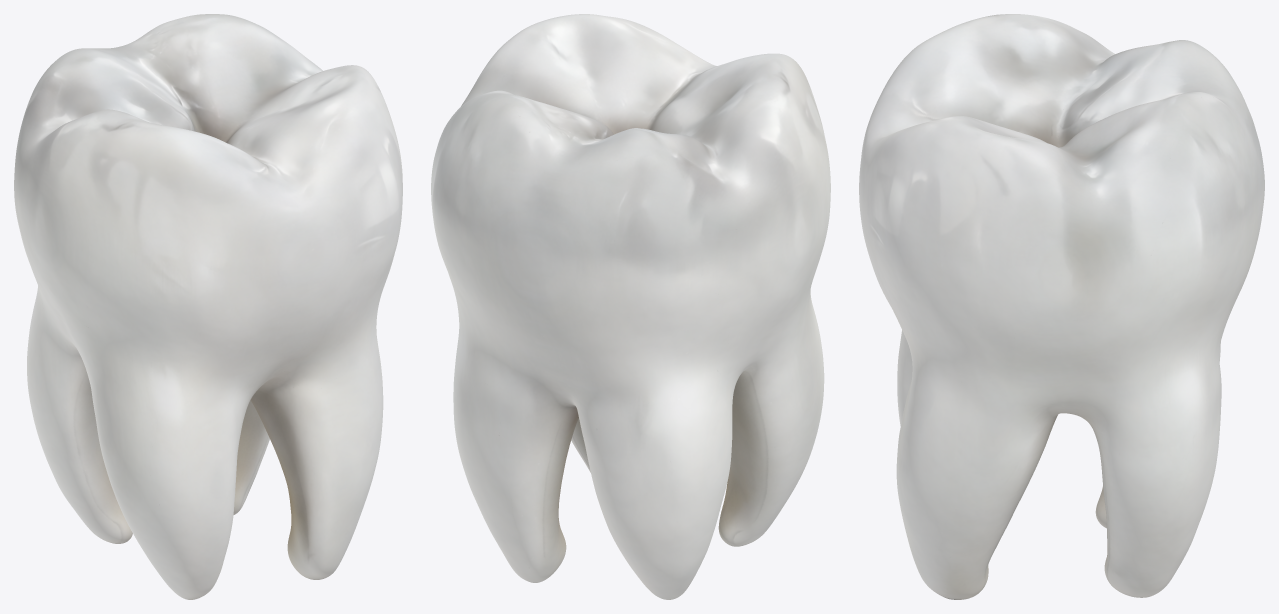
File: base_basic_shaded.glb
3 views of the same model, side by side, from view 1: azimuth 30°, elevation 25°; view 2: azimuth 150°, elevation 25°; view 3: azimuth 270°, elevation 25° (orthographic). The views are drawn at different scales.
Parts seen in each view (by area): view 1: model; view 2: model; view 3: model.
Part boxes in pixels (x1,y1,x2,y2): model: (14,14,402,599); model: (431,14,830,599); model: (859,14,1264,599).
Size of the model in its own units: 1.36 by 1.9 by 1.4.
Materials: 1 (1 with a texture image).
